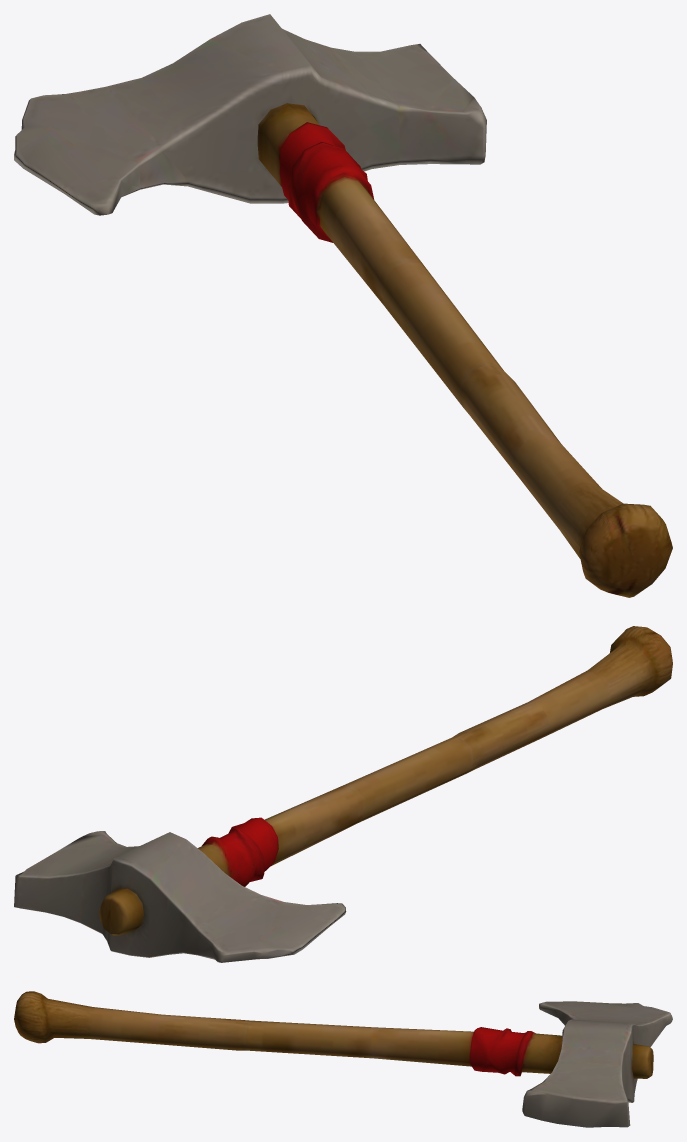
File: m_war_axe.fbx
3 renders of one model, top to bottom at view 1: azimuth 30°, elevation 25°; view 2: azimuth 150°, elevation 25°; view 3: azimuth 270°, elevation 25°, orthographic. The views are drawn at different scales.
Visible parts, largest first — view 1: tripo_node_daf6fd7f-8c19-410b-a8b9-9525e72cb83e; view 2: tripo_node_daf6fd7f-8c19-410b-a8b9-9525e72cb83e; view 3: tripo_node_daf6fd7f-8c19-410b-a8b9-9525e72cb83e.
Part boxes in pixels (x1,y1,x2,y2): tripo_node_daf6fd7f-8c19-410b-a8b9-9525e72cb83e: (14,14,672,597); tripo_node_daf6fd7f-8c19-410b-a8b9-9525e72cb83e: (14,626,672,962); tripo_node_daf6fd7f-8c19-410b-a8b9-9525e72cb83e: (14,991,672,1127).
Bounding box in the file's own units: 0.5902 × 0.1859 × 1.56.
1 material, 1 textured.
